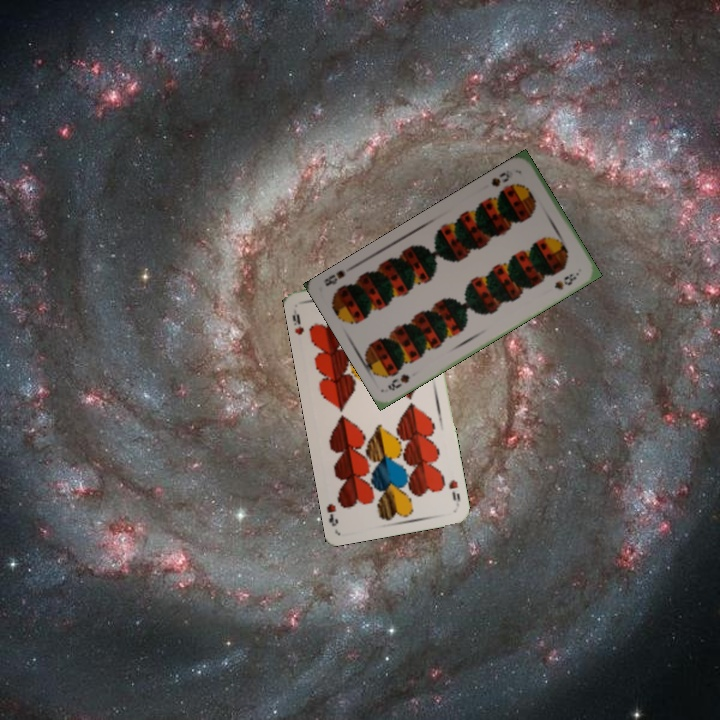H9: (445, 475, 463, 503), (288, 310, 306, 337)
S8: (487, 165, 516, 190), (384, 370, 412, 393)
